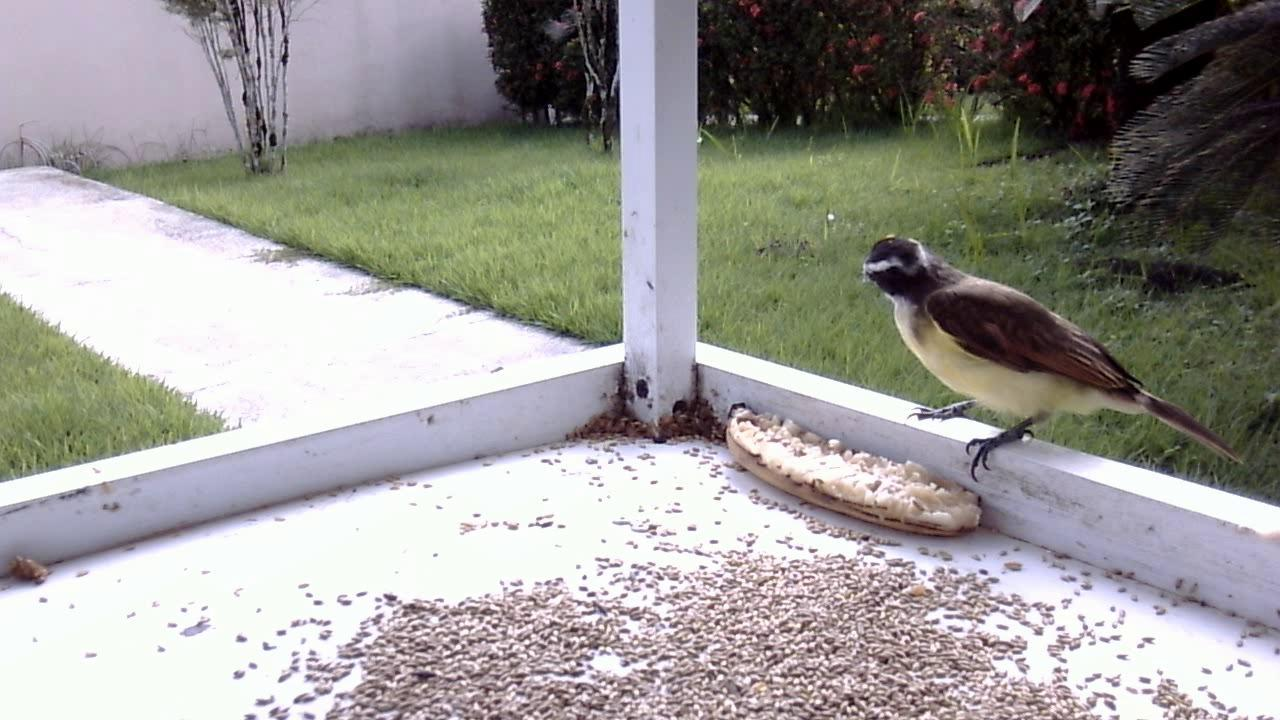bem_te_vi: (851, 224, 1252, 497)
